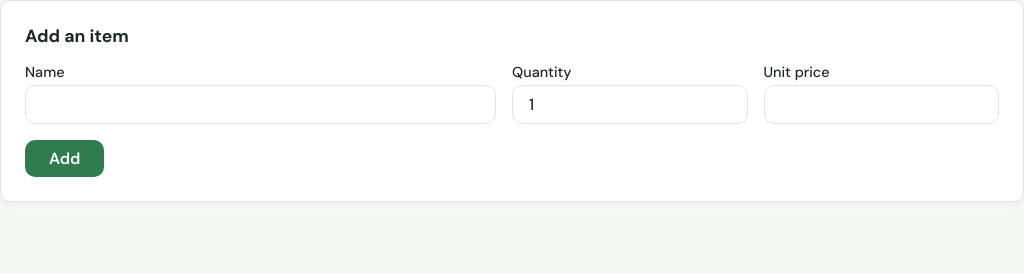
Test: GroceryForm - submission › sends the trimmed item, shows a success message and resets the form
The width and height of the screenshot is (1024, 274).
Step 1. Type "  Banana  " into the field with id "item-name" → (260, 104), box 25,85 -> 496,124
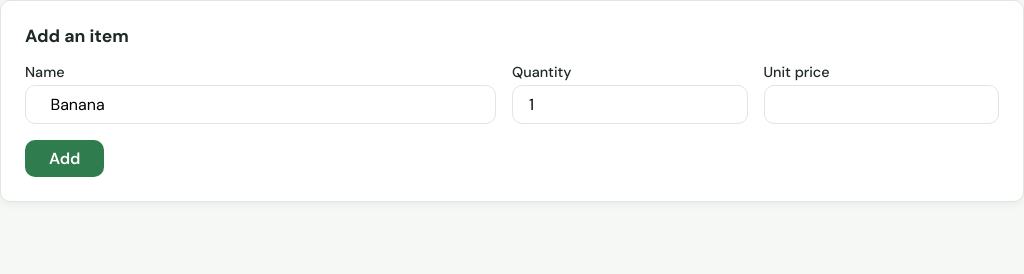
Step 2. Replace the text in the number field with id "item-quantity" with "3" → (630, 104), box 512,85 -> 748,124
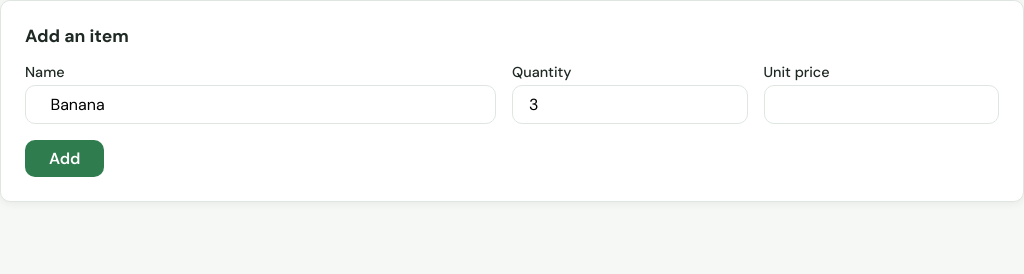
Step 3. Type "0.35" into the number field with id "item-unit-price" → (881, 104), box 764,85 -> 999,124
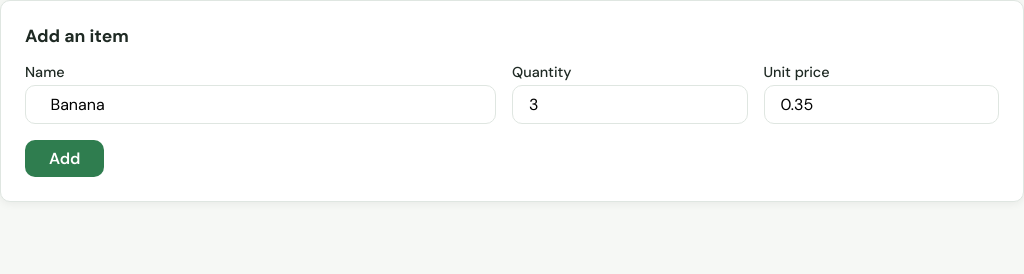
Step 4. Submit the form
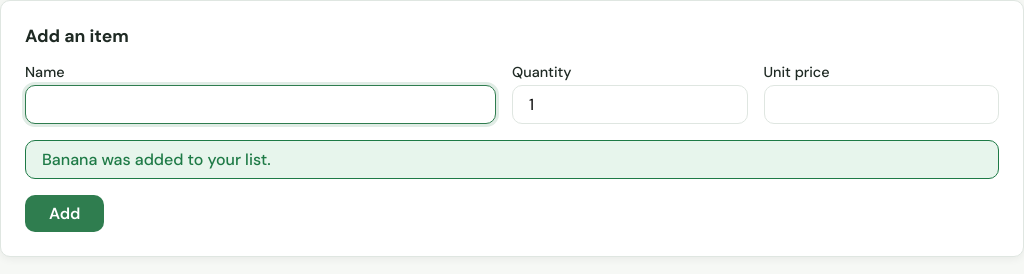
Check: the form shows "Banana was added to your list.", box 42,149 -> 271,170
Check: the field with id "item-name" is empty, box 25,85 -> 496,124
